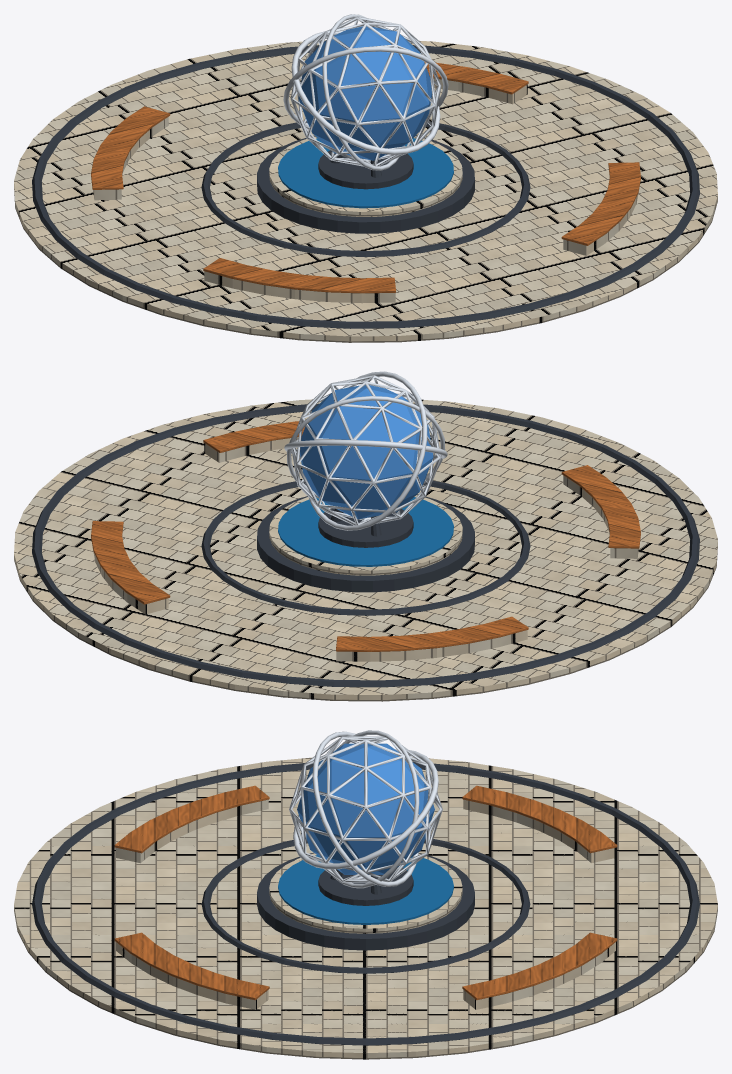
Rendered from landmark_orb_plaza.glb.
The picture shows the model from 3 angles, top to bottom: view 1: azimuth 30°, elevation 25°; view 2: azimuth 150°, elevation 25°; view 3: azimuth 270°, elevation 25°; orthographic projection.
Parts seen in each view (by area): view 1: Orb_StonePlaza, Orb_BasaltTrim, Orb_CedarBenches, Orb_BrushedLattice, Orb_FacetedCore, Orb_ReflectingPool; view 2: Orb_StonePlaza, Orb_BasaltTrim, Orb_CedarBenches, Orb_FacetedCore, Orb_BrushedLattice, Orb_ReflectingPool; view 3: Orb_StonePlaza, Orb_BasaltTrim, Orb_CedarBenches, Orb_BrushedLattice, Orb_FacetedCore, Orb_ReflectingPool.
Boxes of the visible parts, <box> form: Orb_StonePlaza: <box>14,40,717,342</box>; Orb_BasaltTrim: <box>32,45,699,328</box>; Orb_CedarBenches: <box>91,62,640,293</box>; Orb_BrushedLattice: <box>283,14,448,170</box>; Orb_FacetedCore: <box>298,26,432,160</box>; Orb_ReflectingPool: <box>278,138,453,208</box>; Orb_StonePlaza: <box>14,398,717,701</box>; Orb_BasaltTrim: <box>32,403,699,687</box>; Orb_CedarBenches: <box>91,421,640,651</box>; Orb_FacetedCore: <box>300,385,433,519</box>; Orb_BrushedLattice: <box>284,371,447,530</box>; Orb_ReflectingPool: <box>278,497,453,566</box>; Orb_StonePlaza: <box>14,757,717,1059</box>; Orb_BasaltTrim: <box>32,761,699,1045</box>; Orb_CedarBenches: <box>114,785,617,1000</box>; Orb_BrushedLattice: <box>289,730,442,888</box>; Orb_FacetedCore: <box>297,743,434,874</box>; Orb_ReflectingPool: <box>278,855,453,924</box>.
Bounding box in the file's own units: 20 × 5.37 × 20.
6 materials, 2 textured.
